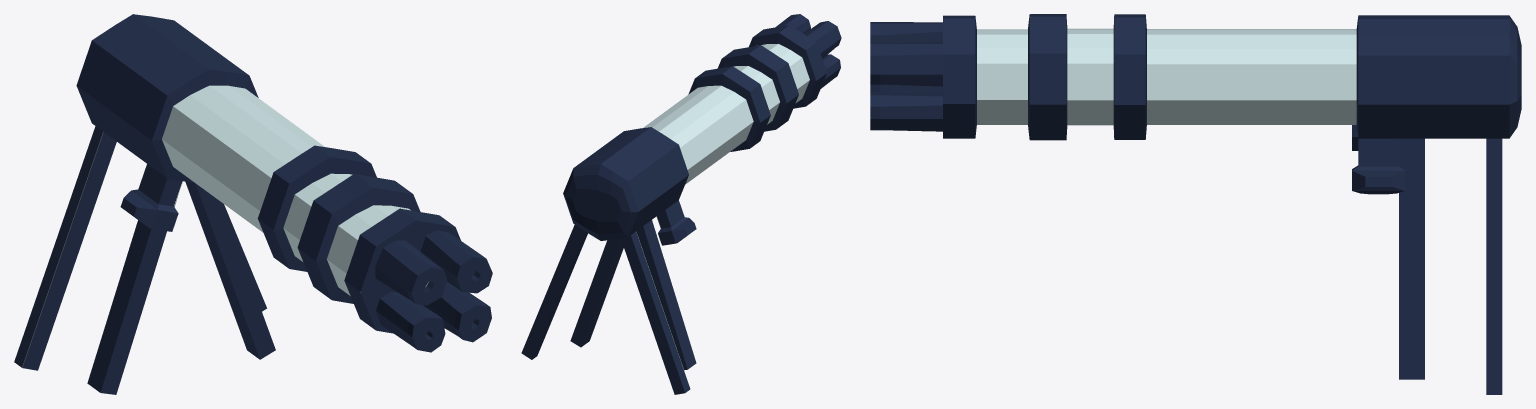
The model's file is machinegun.fbx.
3 renders of one model, left to right at view 1: azimuth 30°, elevation 25°; view 2: azimuth 150°, elevation 25°; view 3: azimuth 270°, elevation 25°, orthographic. The views are drawn at different scales.
Parts seen in each view (by area): view 1: machinegun; view 2: machinegun; view 3: machinegun.
Boxes of the visible parts, x1,y1,x2,y2 form: machinegun: (14, 14, 492, 394); machinegun: (521, 14, 841, 394); machinegun: (870, 14, 1521, 394).
Bounding box in the file's own units: 45.01 × 57.11 × 104.
